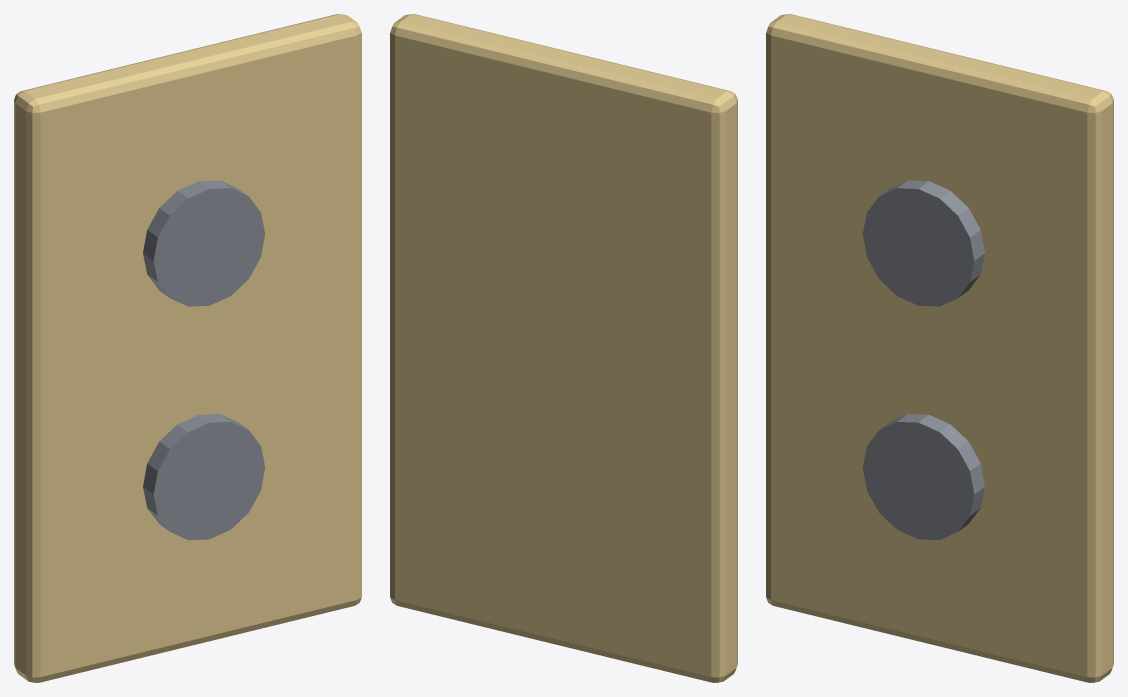
File: prop_elevator_panel.glb
3 renders of one model, left to right at view 1: azimuth 30°, elevation 25°; view 2: azimuth 150°, elevation 25°; view 3: azimuth 330°, elevation 25°, orthographic.
Visible parts, largest first — view 1: Panel; view 2: Panel; view 3: Panel.
Boxes of the visible parts, x1,y1,x2,y2 form: Panel: [14, 14, 361, 682]; Panel: [390, 14, 737, 682]; Panel: [766, 14, 1113, 682].
Bounding box in the file's own units: 0.18 × 0.3 × 0.03.
